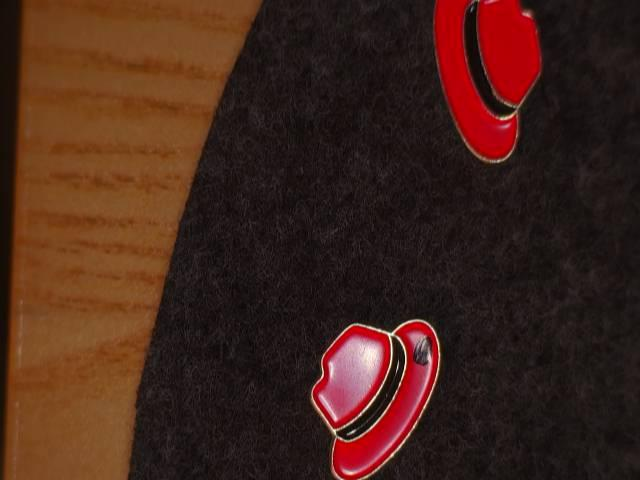Red-Hat: (286, 292, 467, 480), (404, 0, 568, 195)
Scratch: (405, 324, 443, 377)
